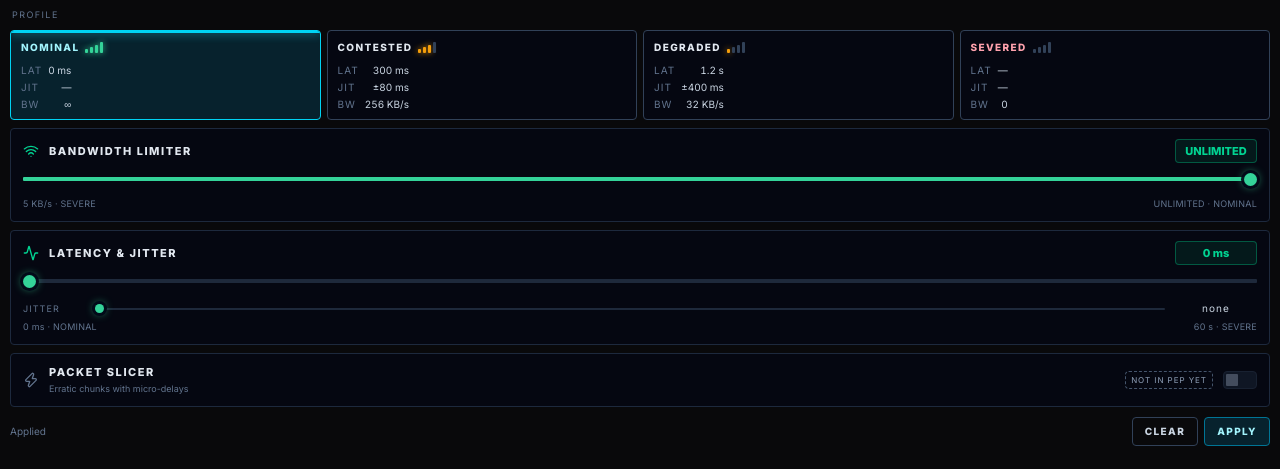
Test: LinkShapingPanel › a slider change shows CUSTOM and deselects every tile
This screenshot has width=1280, height=469.
Set the slider with id "lk-latency" to "500" at (640, 281), box left=23, top=273, right=1257, bottom=289
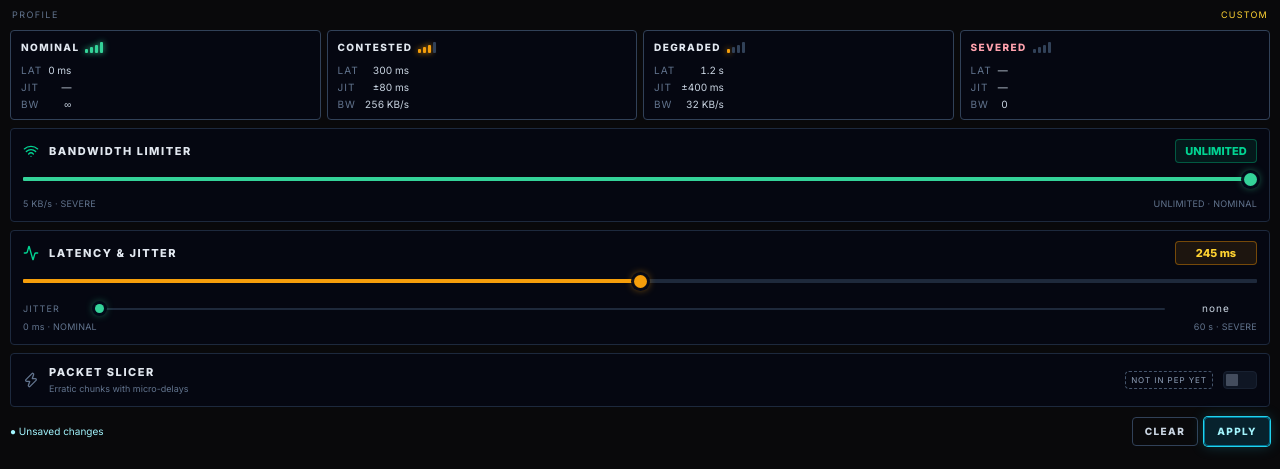
Check: the text "CUSTOM" is shown, box left=1221, top=8, right=1268, bottom=22
